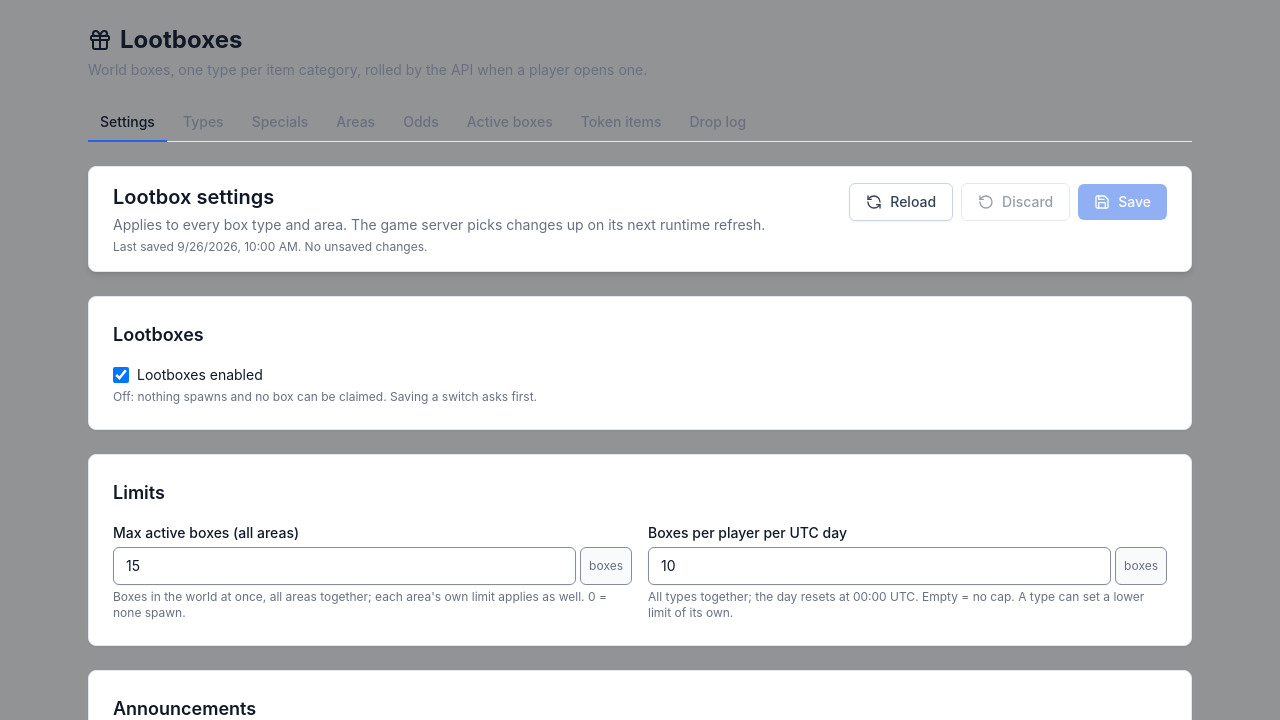
Lootbox settings tab (#26) › is a settings shell inside the tab: an h2 under the page h1, a count, Save (n)
This screenshot has width=1280, height=720.
Expected: the heading "Lootbox settings" is shown, [113,185,274,209]
Expected: the 1st heading "Lootboxes" is shown, [88,25,242,54]
Replace the text in the field labelled "Max active boxes (all areas)" with "20": (345, 566) [113,547,576,585]
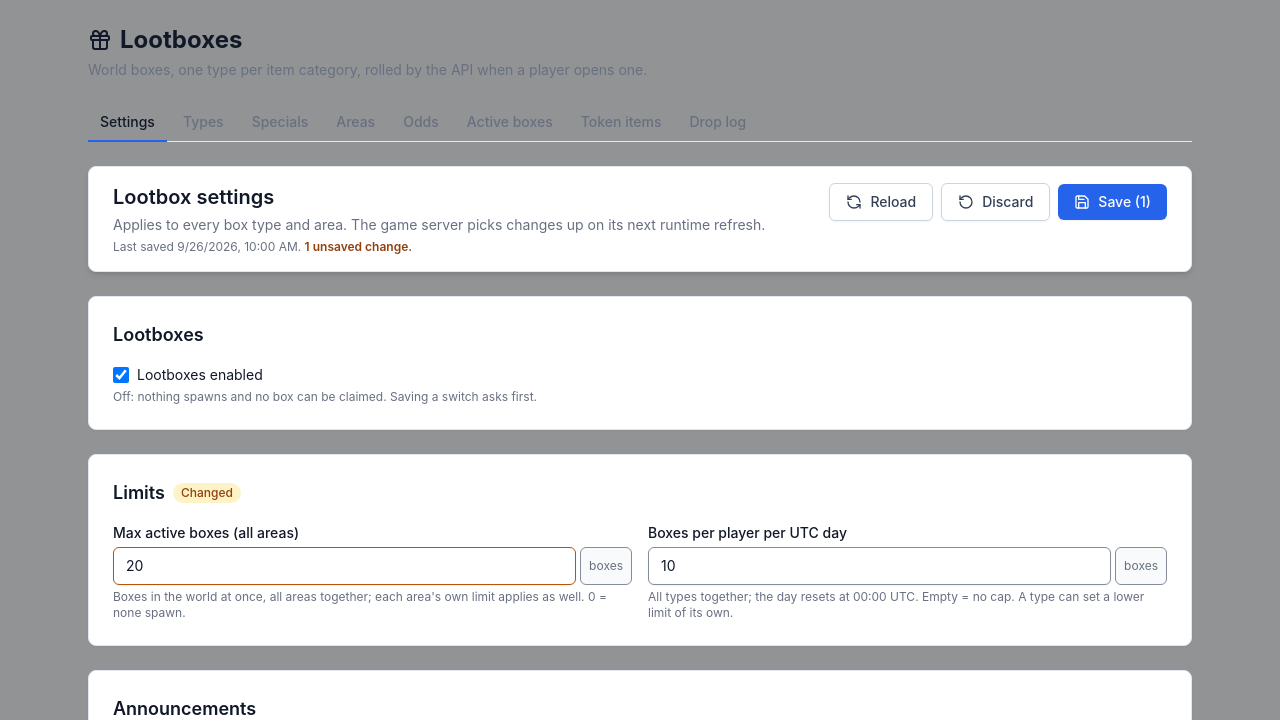
Now the header "Lootbox settings" shows "1 unsaved change.", box [305,239,412,254]
Now the element "Limits" shows "Changed", box [181,485,233,500]
